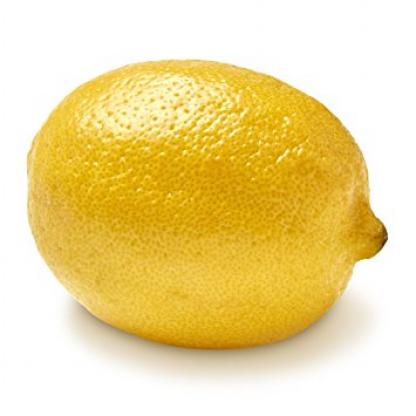--: (18, 43, 398, 370)
